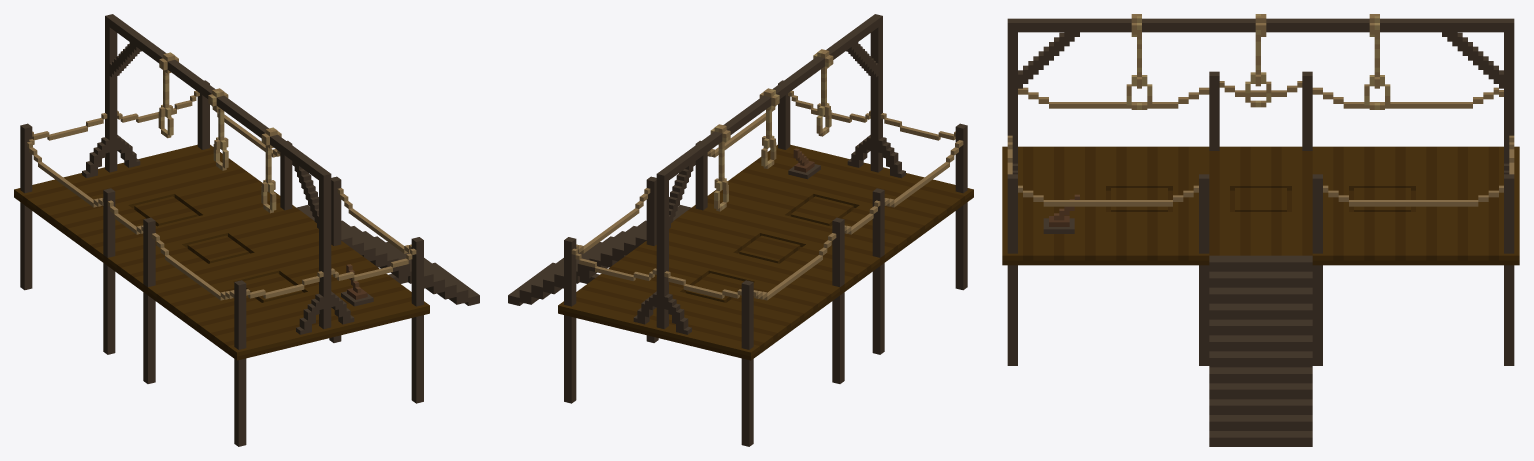
File: Forca.obj
3 views of the same model, side by side, from view 1: azimuth 30°, elevation 25°; view 2: azimuth 150°, elevation 25°; view 3: azimuth 270°, elevation 25° (orthographic). The views are drawn at different scales.
Size of the model in its own units: 8.6 by 6.3 by 10.
1 material, 1 textured.
